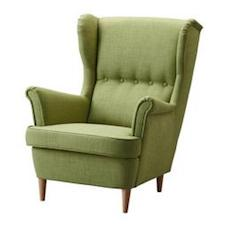chair: (3, 6, 213, 214)
